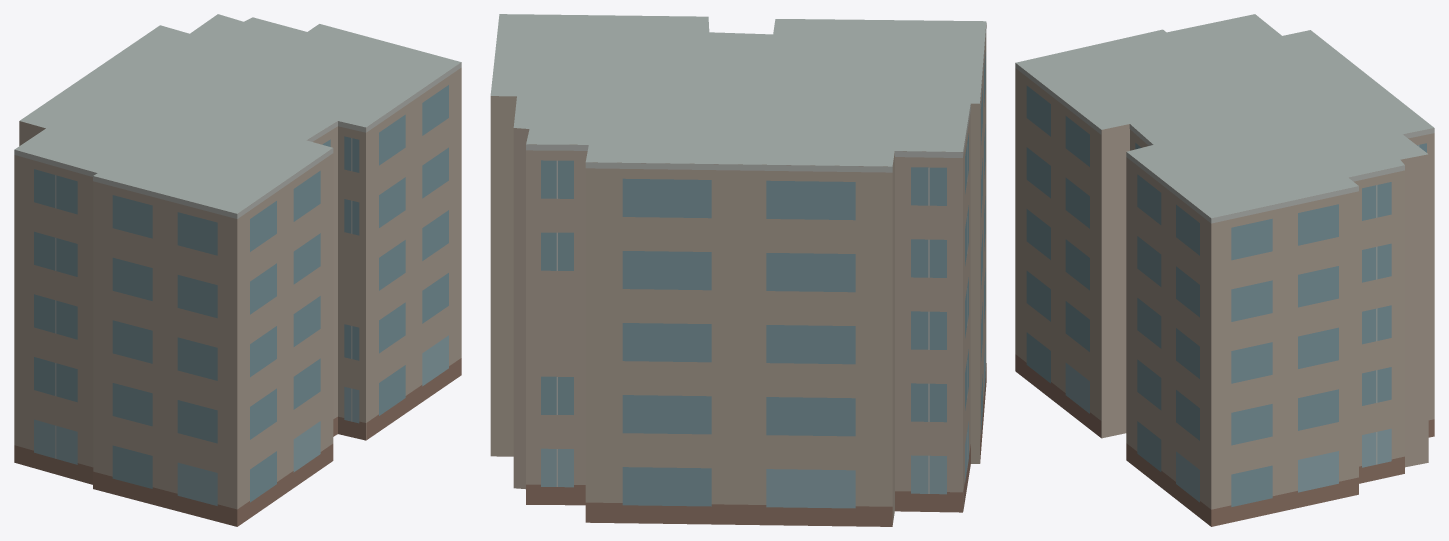
Rendered from survey-upis-32608963.glb.
3 renders of one model, left to right at view 1: azimuth 30°, elevation 25°; view 2: azimuth 150°, elevation 25°; view 3: azimuth 270°, elevation 25°, orthographic. The views are drawn at different scales.
Parts seen in each view (by area): view 1: survey-upis-32608963.tmp; view 2: survey-upis-32608963.tmp; view 3: survey-upis-32608963.tmp.
Boxes of the visible parts, box(x1,y1,x2,y2) form: survey-upis-32608963.tmp: box(14, 14, 461, 526); survey-upis-32608963.tmp: box(490, 14, 986, 526); survey-upis-32608963.tmp: box(1015, 14, 1434, 526).
Size of the model in its own units: 20.61 by 14.5 by 17.86.
